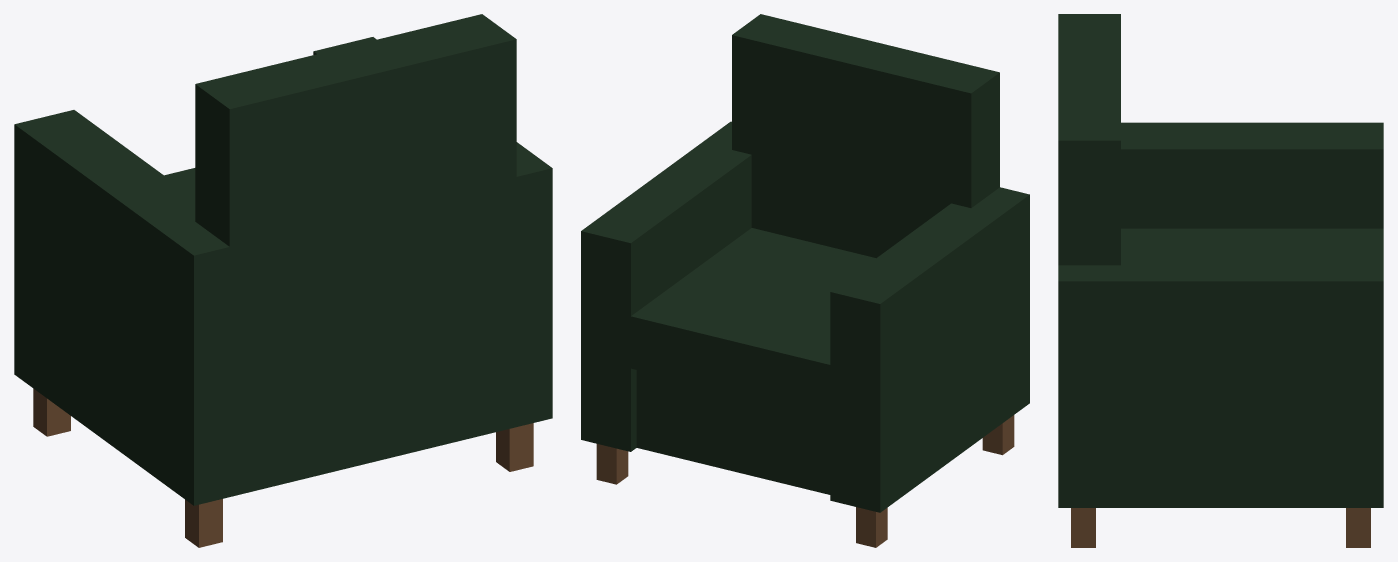
The model's file is armchair_02.glb.
3 renders of one model, left to right at view 1: azimuth 30°, elevation 25°; view 2: azimuth 150°, elevation 25°; view 3: azimuth 270°, elevation 25°, orthographic. The views are drawn at different scales.
Parts seen in each view (by area): view 1: Untitled; view 2: Untitled; view 3: Untitled.
Boxes of the visible parts, x1=… form: Untitled: x1=14, y1=14, x2=552, y2=547; Untitled: x1=581, y1=14, x2=1029, y2=547; Untitled: x1=1058, y1=14, x2=1383, y2=547.
Size of the model in its own units: 0.9 by 1.05 by 0.78.
1 material, 1 textured.
